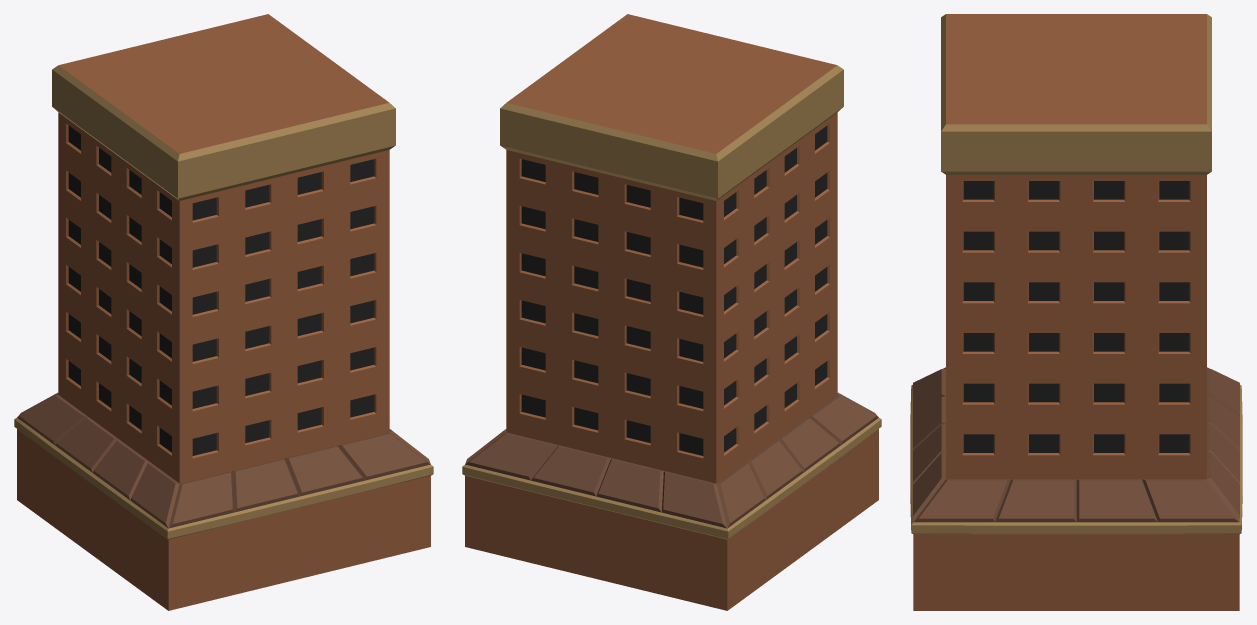
Rendered from Building4.fbx.
The picture shows the model from 3 angles, left to right: view 1: azimuth 30°, elevation 25°; view 2: azimuth 150°, elevation 25°; view 3: azimuth 270°, elevation 25°; orthographic projection. The views are drawn at different scales.
Parts seen in each view (by area): view 1: Building4; view 2: Building4; view 3: Building4.
Boxes of the visible parts, x1,y1,x2,y2 form: Building4: [14, 14, 433, 610]; Building4: [462, 14, 881, 610]; Building4: [910, 14, 1242, 610].
Size of the model in its own units: 1019 by 1600 by 1019.
